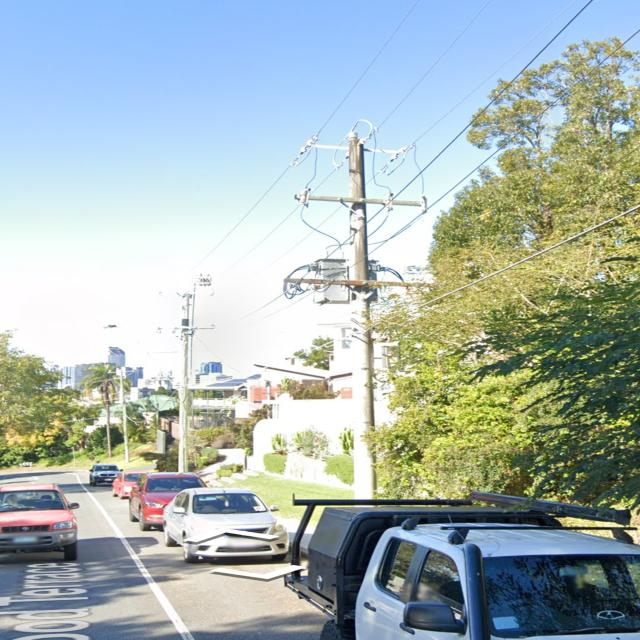HV-transmission: (292, 120, 426, 213)
crossarm: (305, 133, 406, 158), (294, 190, 424, 207), (283, 278, 436, 292), (155, 327, 215, 332)
timber-pole: (348, 138, 378, 508), (178, 291, 192, 473), (118, 369, 131, 463)
transformer: (311, 257, 376, 305)
